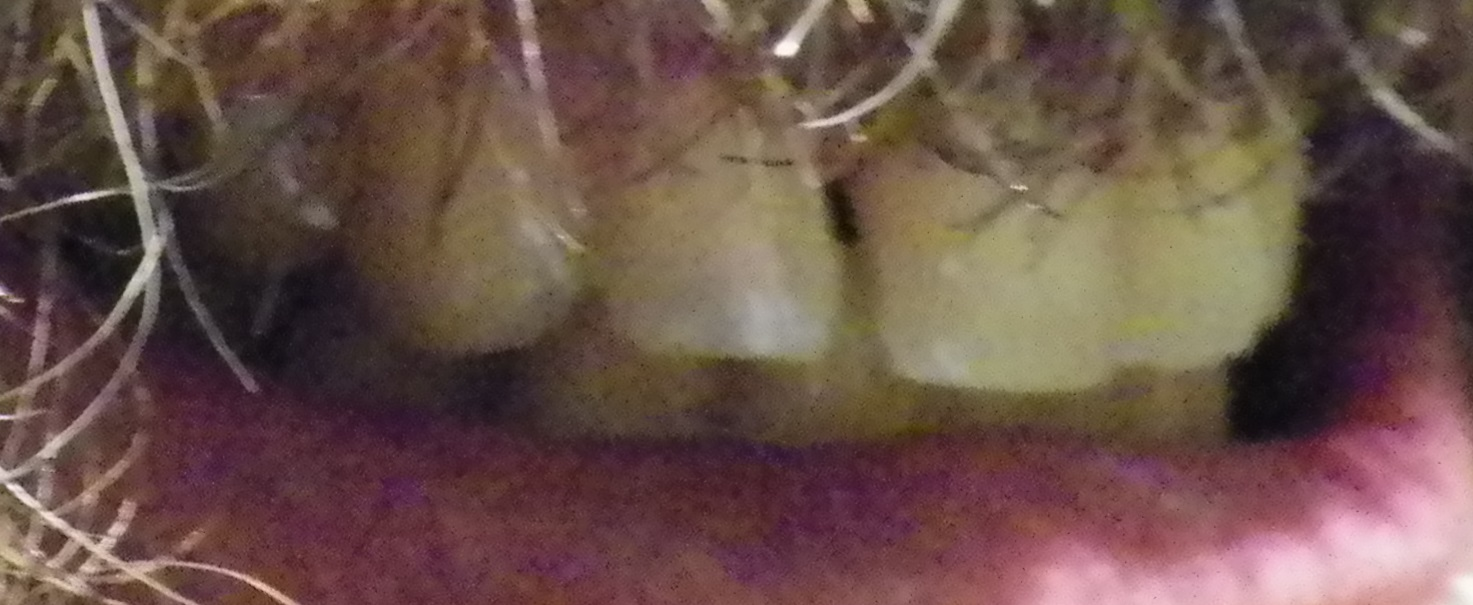boca: (107, 113, 1366, 437)
